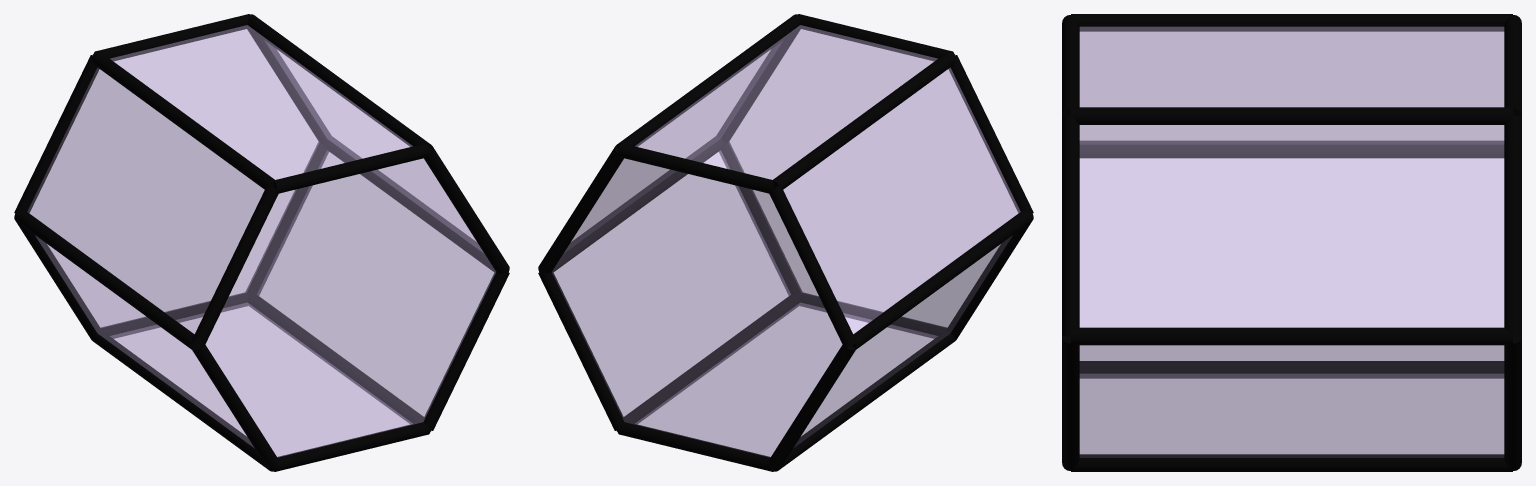
Rendered from hexagonalprism.fbx.
3 views of the same model, side by side, from view 1: azimuth 30°, elevation 25°; view 2: azimuth 150°, elevation 25°; view 3: azimuth 270°, elevation 25° (orthographic). The views are drawn at different scales.
Visible parts, largest first — view 1: ReferenceHexPrism, HexPrismEdge.014, HexPrismEdge.015, HexPrismEdge.013, HexPrismEdge.017, HexPrismEdge.016, HexPrismEdge.012, HexPrismEdge.002, HexPrismEdge.005, HexPrismEdge.008, HexPrismEdge.001, HexPrismEdge.004 (+7 smaller); view 2: ReferenceHexPrism, HexPrismEdge.014, HexPrismEdge.015, HexPrismEdge.013, HexPrismEdge.017, HexPrismEdge.016, HexPrismEdge.012, HexPrismEdge.008, HexPrismEdge.011, HexPrismEdge.002, HexPrismEdge.007, HexPrismEdge.010 (+7 smaller); view 3: ReferenceHexPrism, HexPrismEdge.012, HexPrismEdge.013, HexPrismEdge.017, HexPrismEdge.014, HexPrismEdge.015, HexPrismEdge.016, HexPrismEdge, HexPrismEdge.006, HexPrismEdge.005, HexPrismEdge.011, HexPrismEdge.001 (+1 smaller).
Part boxes in pixels (left/top/right/bottom): ReferenceHexPrism: left=27, top=25, right=495, bottom=457; HexPrismEdge.014: left=91, top=52, right=274, bottom=189; HexPrismEdge.015: left=14, top=211, right=195, bottom=349; HexPrismEdge.013: left=247, top=14, right=431, bottom=147; HexPrismEdge.017: left=247, top=294, right=430, bottom=431; HexPrismEdge.016: left=92, top=331, right=273, bottom=471; HexPrismEdge.012: left=322, top=136, right=509, bottom=272; HexPrismEdge.002: left=192, top=186, right=278, bottom=347; HexPrismEdge.005: left=422, top=271, right=509, bottom=430; HexPrismEdge.008: left=14, top=55, right=99, bottom=213; HexPrismEdge.001: left=274, top=143, right=430, bottom=193; HexPrismEdge.004: left=274, top=422, right=430, bottom=471; ReferenceHexPrism: left=552, top=25, right=1020, bottom=457; HexPrismEdge.014: left=773, top=52, right=956, bottom=189; HexPrismEdge.015: left=852, top=211, right=1033, bottom=349; HexPrismEdge.013: left=616, top=14, right=800, bottom=147; HexPrismEdge.017: left=617, top=294, right=800, bottom=431; HexPrismEdge.016: left=774, top=331, right=955, bottom=471; HexPrismEdge.012: left=538, top=136, right=725, bottom=272; HexPrismEdge.008: left=769, top=186, right=855, bottom=347; HexPrismEdge.011: left=538, top=271, right=625, bottom=430; HexPrismEdge.002: left=948, top=55, right=1033, bottom=213; HexPrismEdge.007: left=617, top=143, right=773, bottom=193; HexPrismEdge.010: left=617, top=422, right=773, bottom=471; ReferenceHexPrism: left=1079, top=27, right=1504, bottom=457; HexPrismEdge.012: left=1071, top=327, right=1512, bottom=345; HexPrismEdge.013: left=1071, top=107, right=1512, bottom=124; HexPrismEdge.017: left=1071, top=454, right=1512, bottom=471; HexPrismEdge.014: left=1071, top=14, right=1512, bottom=31; HexPrismEdge.015: left=1079, top=141, right=1504, bottom=158; HexPrismEdge.016: left=1079, top=361, right=1504, bottom=378; HexPrismEdge: left=1062, top=115, right=1079, bottom=336; HexPrismEdge.006: left=1504, top=115, right=1521, bottom=336; HexPrismEdge.005: left=1062, top=336, right=1079, bottom=470; HexPrismEdge.011: left=1504, top=336, right=1521, bottom=470; HexPrismEdge.001: left=1062, top=15, right=1079, bottom=115.
Size of the model in its own units: 208 by 181 by 208.
